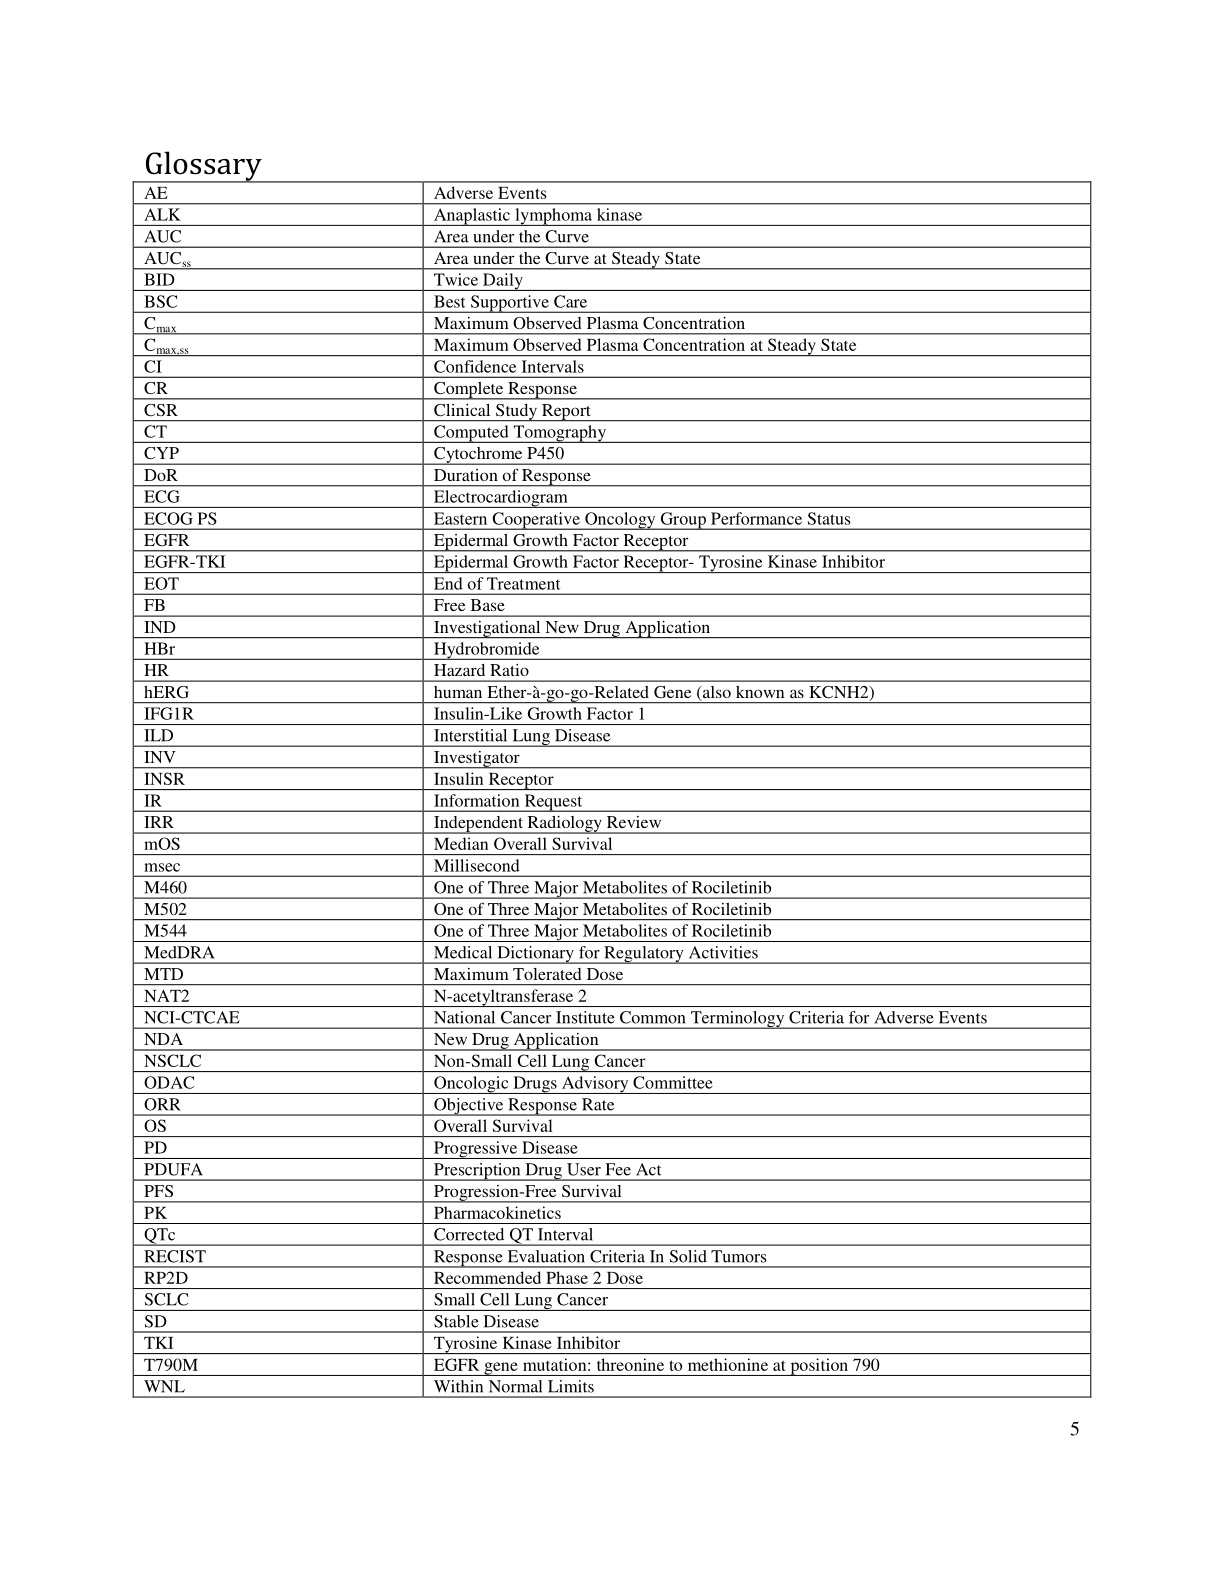full_lined: (131, 179, 1093, 1399)
